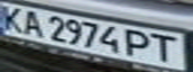2: (42, 14, 66, 44)
4: (100, 24, 124, 54)
7: (78, 20, 100, 50)
9: (60, 17, 84, 46)
A: (18, 8, 48, 38)
K: (0, 2, 30, 33)
P: (124, 27, 157, 60)
T: (148, 31, 184, 64)
